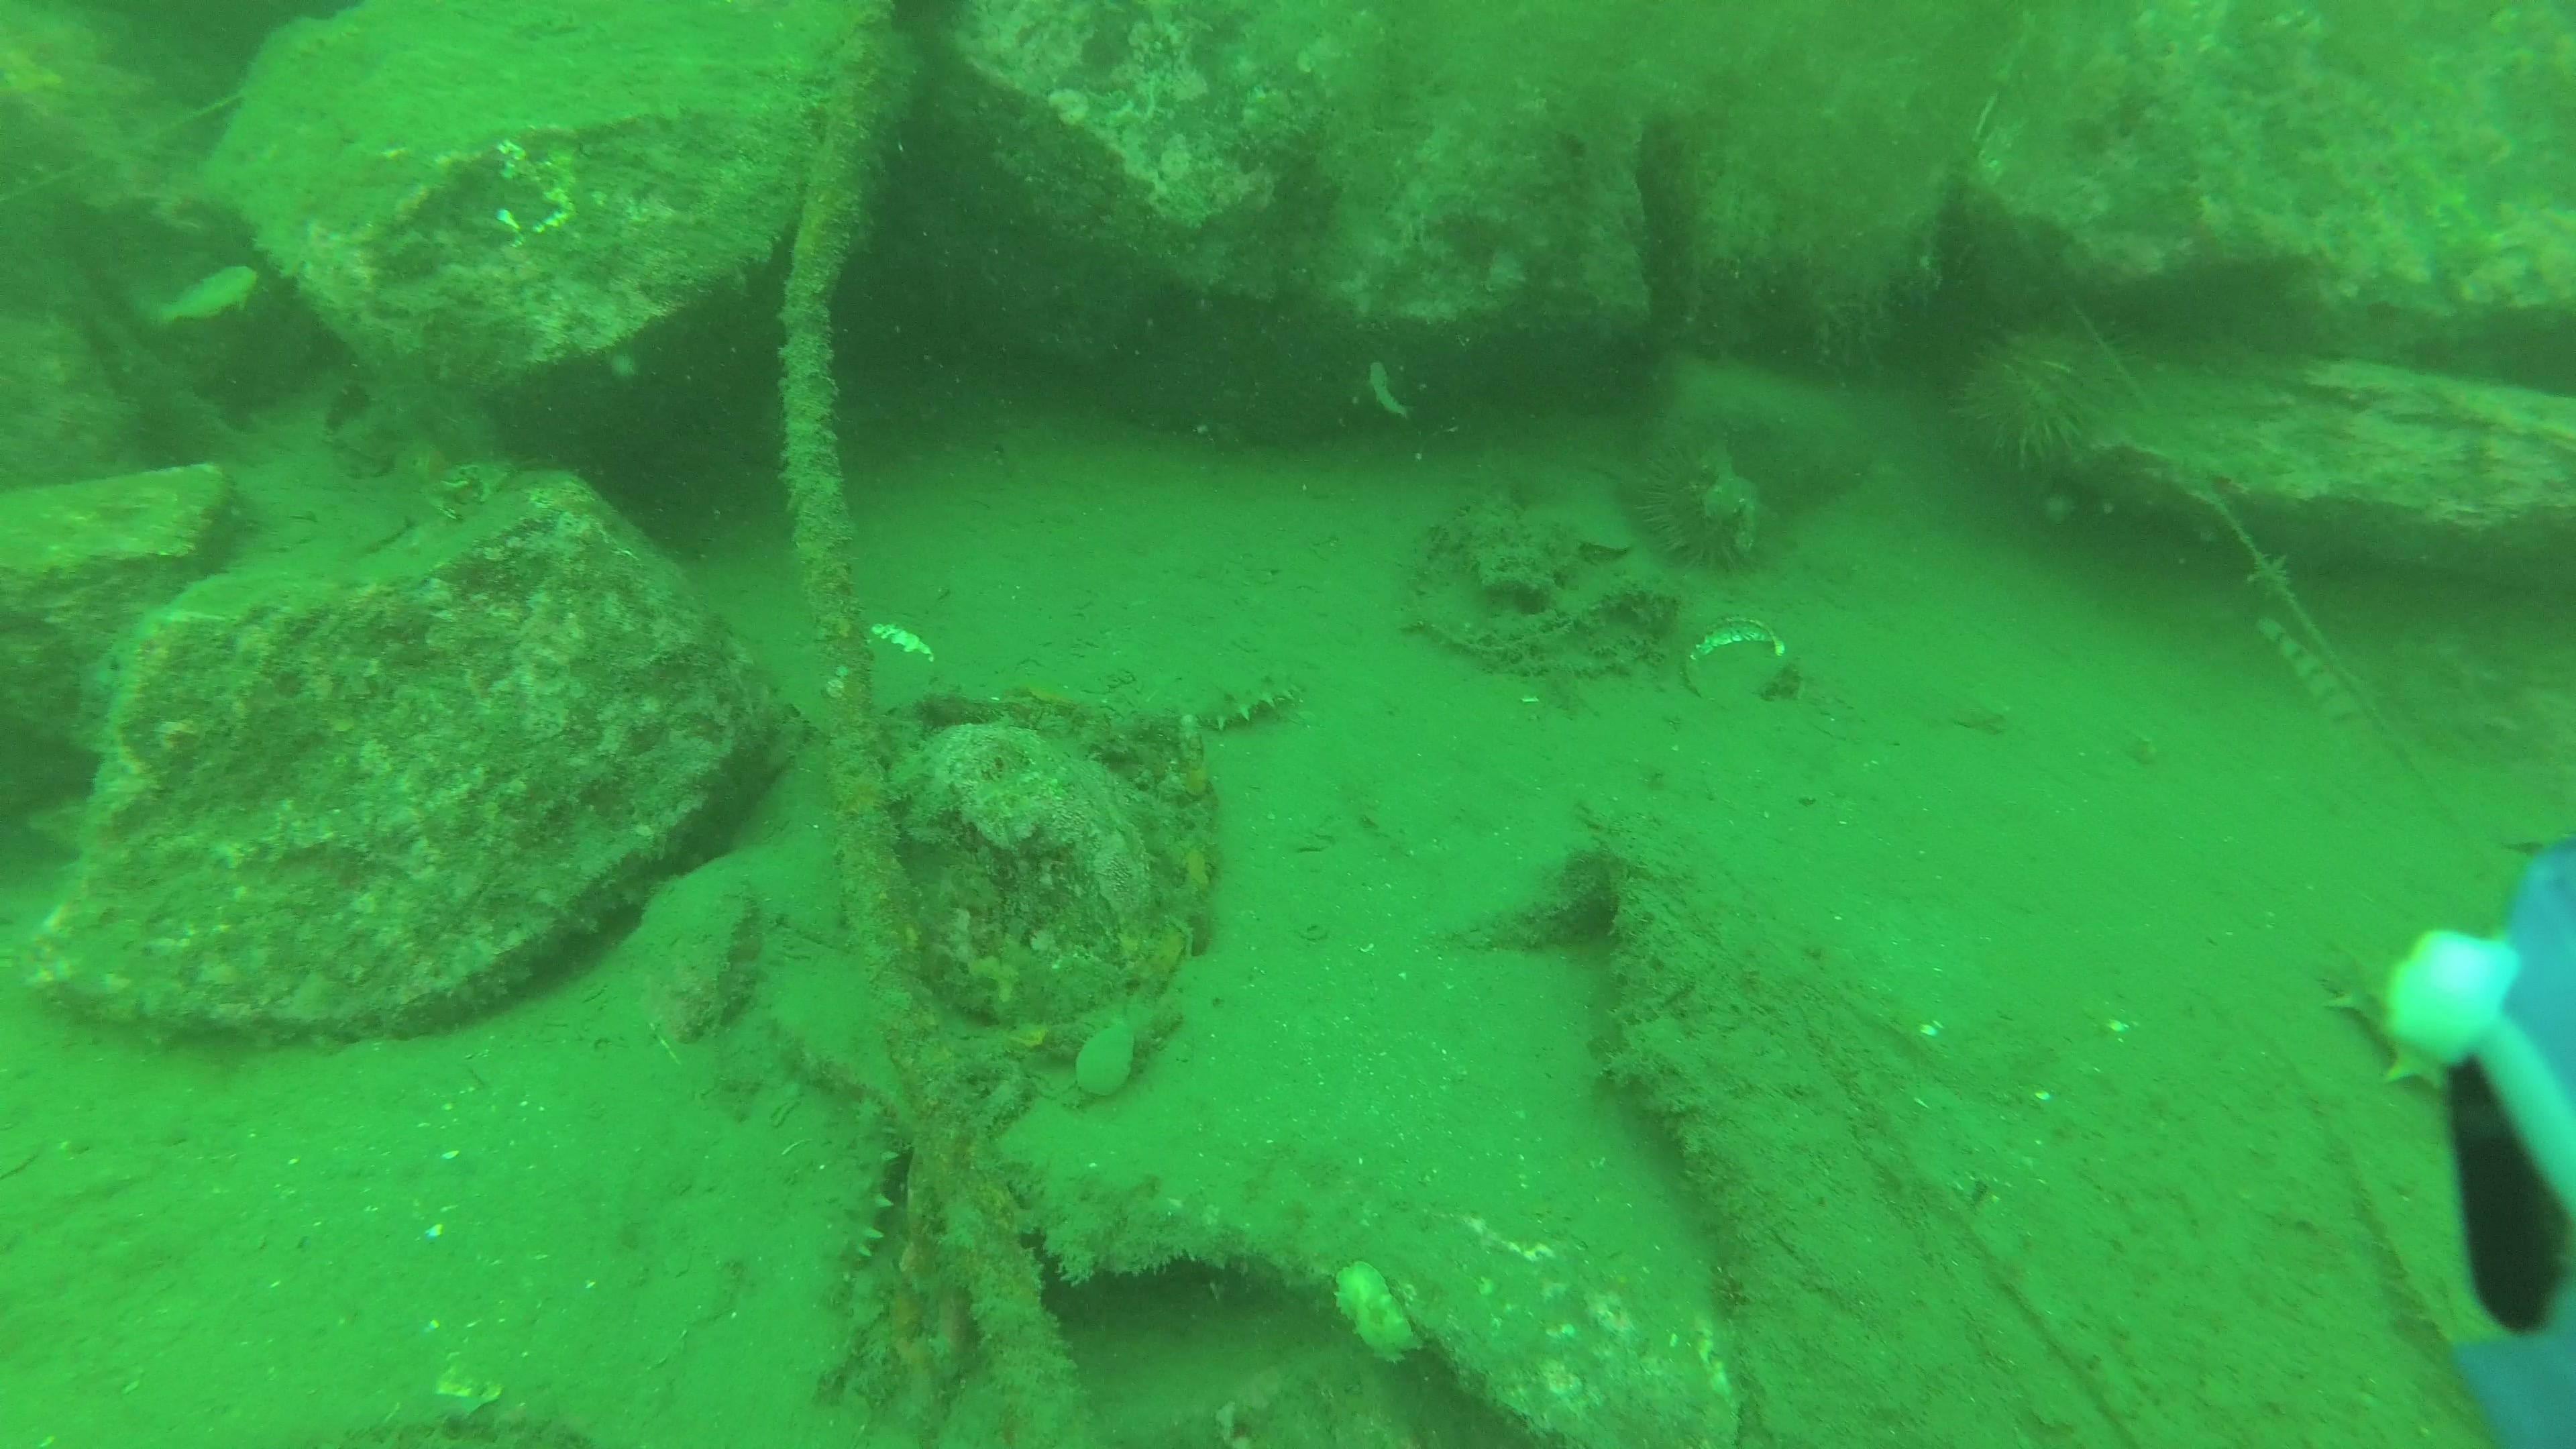echinus: (1950, 313, 2144, 469), (1631, 456, 1783, 580)
holothurian: (816, 1097, 899, 1279), (1177, 663, 1316, 745)
